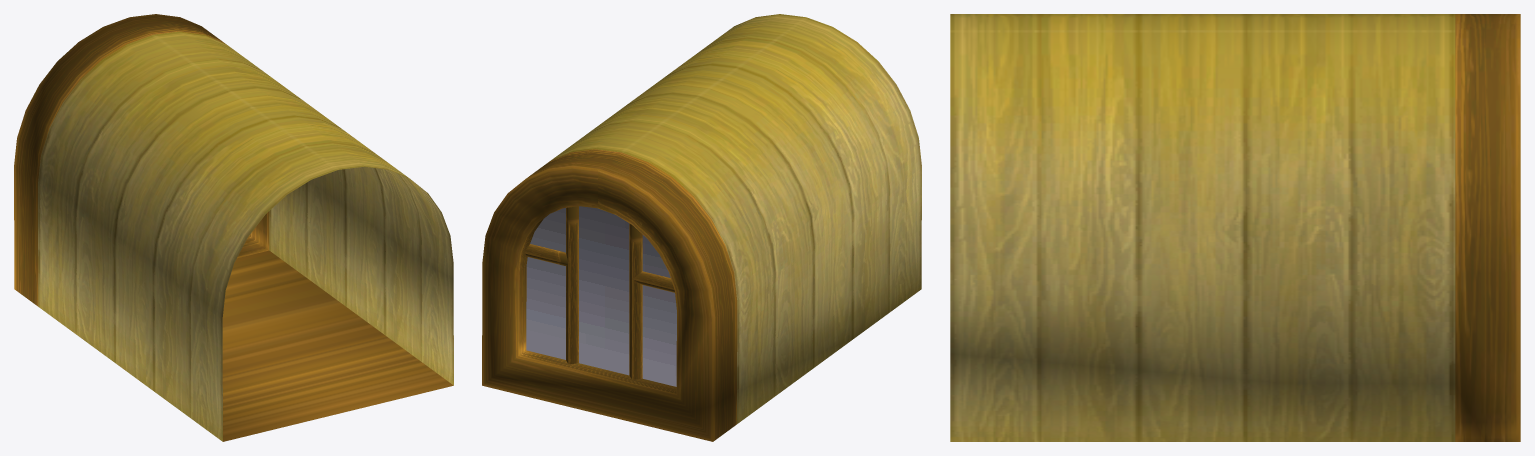
File: INST_HTOWN_WINDOWB.obj
3 views of the same model, side by side, from view 1: azimuth 30°, elevation 25°; view 2: azimuth 150°, elevation 25°; view 3: azimuth 270°, elevation 25° (orthographic). The views are drawn at different scales.
Visible parts, largest first — view 1: WindowB_Lod1_01; view 2: WindowB_Lod1_01; view 3: WindowB_Lod1_01.
Boxes of the visible parts, x1,y1,x2,y2 form: WindowB_Lod1_01: (14,14,453,441); WindowB_Lod1_01: (482,14,921,441); WindowB_Lod1_01: (950,14,1520,441).
Bounding box in the file's own units: 82.81 × 83.46 × 129.
